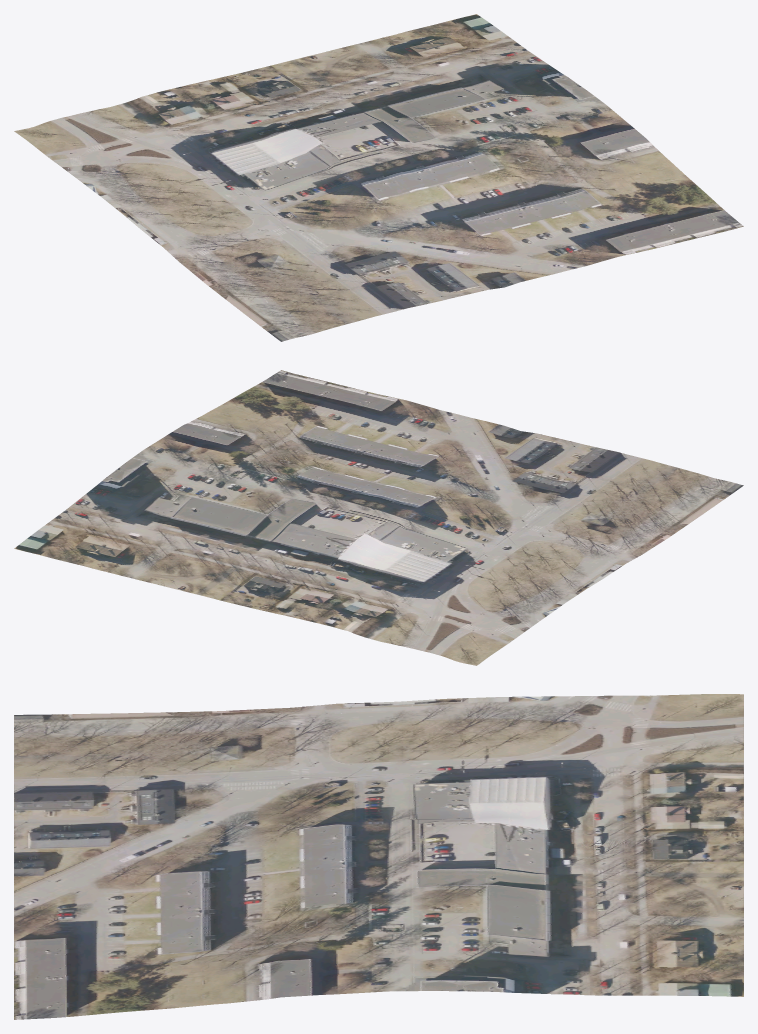
The model's file is CM_Terrain_24488615_6821636.fbx.
3 renders of one model, top to bottom at view 1: azimuth 30°, elevation 25°; view 2: azimuth 150°, elevation 25°; view 3: azimuth 270°, elevation 25°, orthographic. The views are drawn at different scales.
Parts seen in each view (by area): view 1: CM_Terrain_24488615_6821636_LOD0; view 2: CM_Terrain_24488615_6821636_LOD0; view 3: CM_Terrain_24488615_6821636_LOD0.
Boxes of the visible parts, bbox=[...] form: CM_Terrain_24488615_6821636_LOD0: bbox=[14, 14, 743, 341]; CM_Terrain_24488615_6821636_LOD0: bbox=[14, 370, 743, 665]; CM_Terrain_24488615_6821636_LOD0: bbox=[14, 694, 743, 1019].
Size of what is drawn, in the model's own units: 205 by 10.22 by 205.
